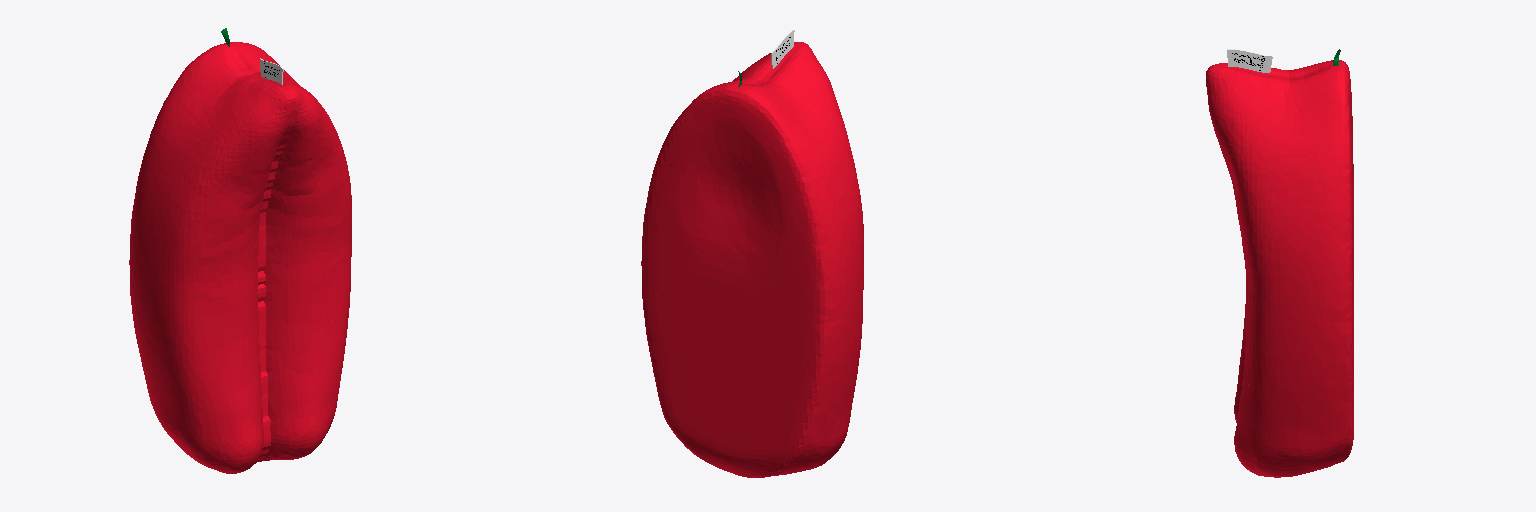
3 views of the same model, side by side, from view 1: azimuth 30°, elevation 25°; view 2: azimuth 150°, elevation 25°; view 3: azimuth 270°, elevation 25° (orthographic).
Parts seen in each view (by area): view 1: Group1; view 2: Group1; view 3: Group1, Line003.
Part boxes in pixels (bbox=[...]): Group1: bbox=[129, 42, 351, 473]; Group1: bbox=[641, 42, 863, 477]; Group1: bbox=[1206, 60, 1353, 477]; Line003: bbox=[1227, 49, 1272, 72].
Bounding box in the file's own units: 133 × 265 × 85.92.
Materials: 3 (1 with a texture image).